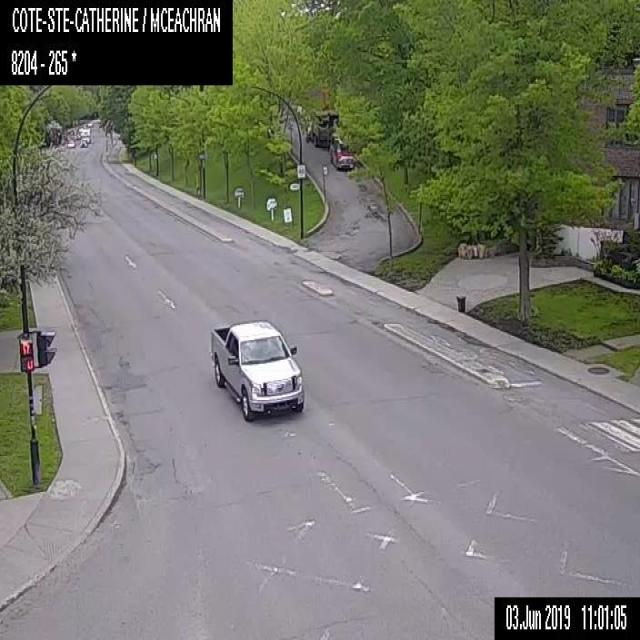vehicle: (210, 318, 305, 422), (306, 102, 354, 168), (81, 126, 90, 142), (67, 138, 75, 146), (80, 138, 87, 146)
